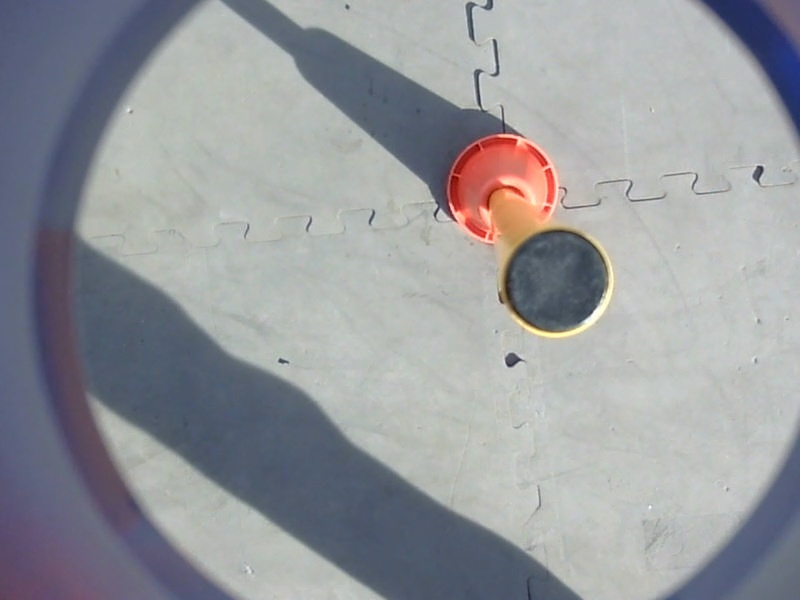tip: (497, 221, 619, 343)
